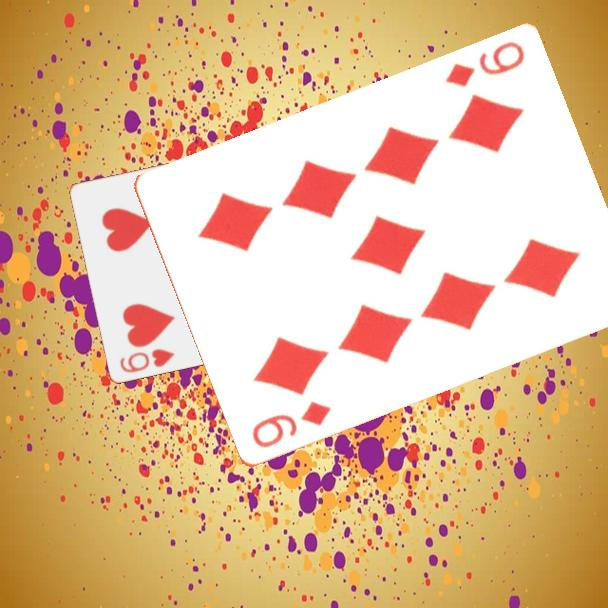d09: (248, 398, 333, 452), (441, 38, 527, 91)
h06: (116, 345, 178, 375)
